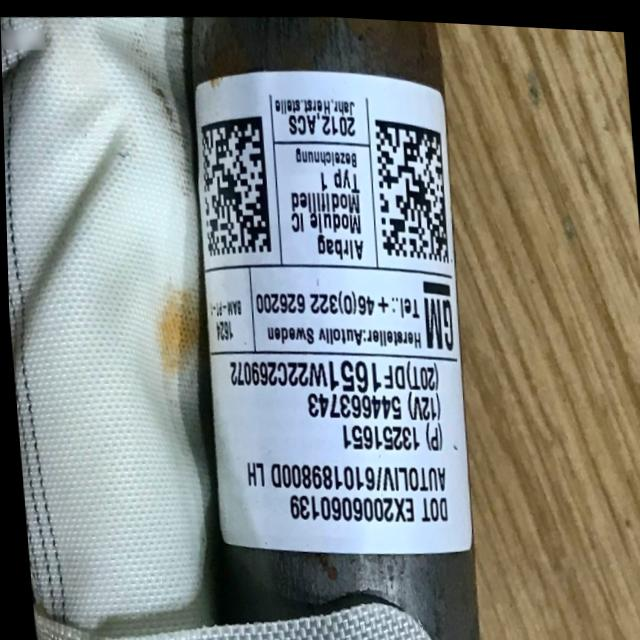datamatrix: (373, 113, 450, 263), (196, 110, 272, 256)
